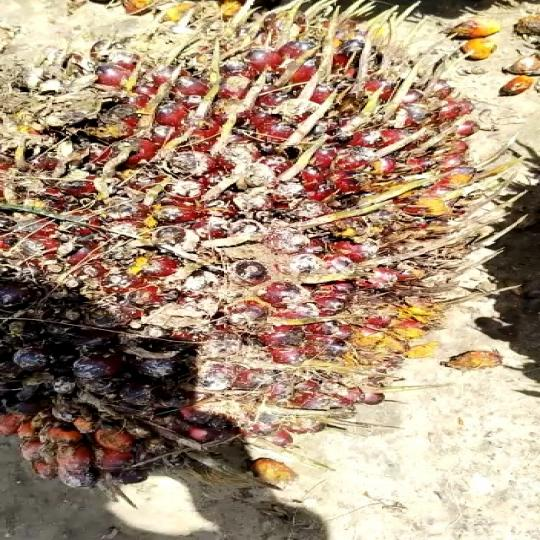masak: (0, 19, 540, 510)
